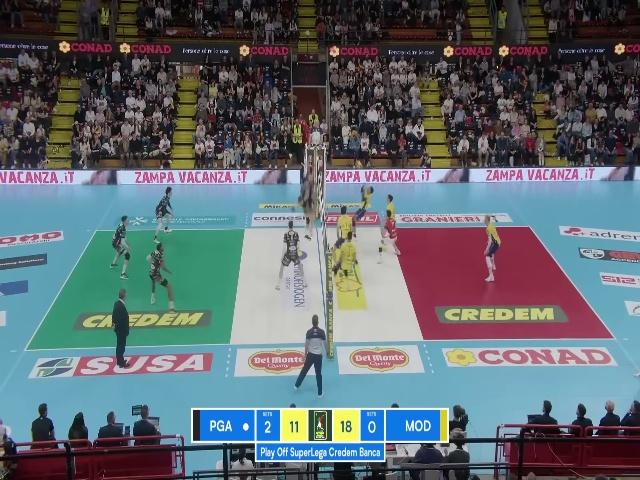volleyball court: (27, 224, 615, 345)
